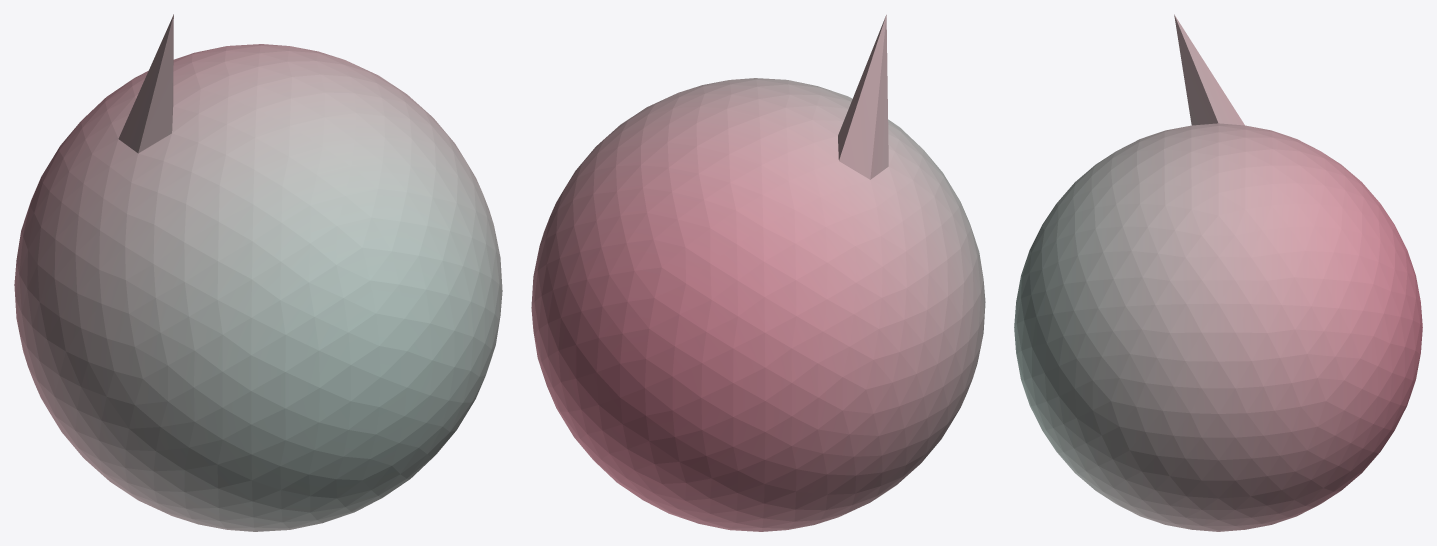
Rendered from gauntlet_mesh.glb.
3 renders of one model, left to right at view 1: azimuth 30°, elevation 25°; view 2: azimuth 150°, elevation 25°; view 3: azimuth 270°, elevation 25°, orthographic. The views are drawn at different scales.
Parts seen in each view (by area): view 1: world; view 2: world; view 3: world.
Part boxes in pixels (x1=…): world: x1=14, y1=14, x2=502, y2=531; world: x1=531, y1=14, x2=985, y2=531; world: x1=1014, y1=14, x2=1422, y2=531.
Bounding box in the file's own units: 1.84 × 2.25 × 1.84.
